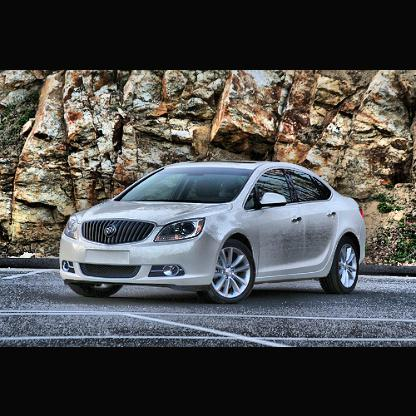Buick Verano Sedan 2012: (59, 158, 369, 307)
